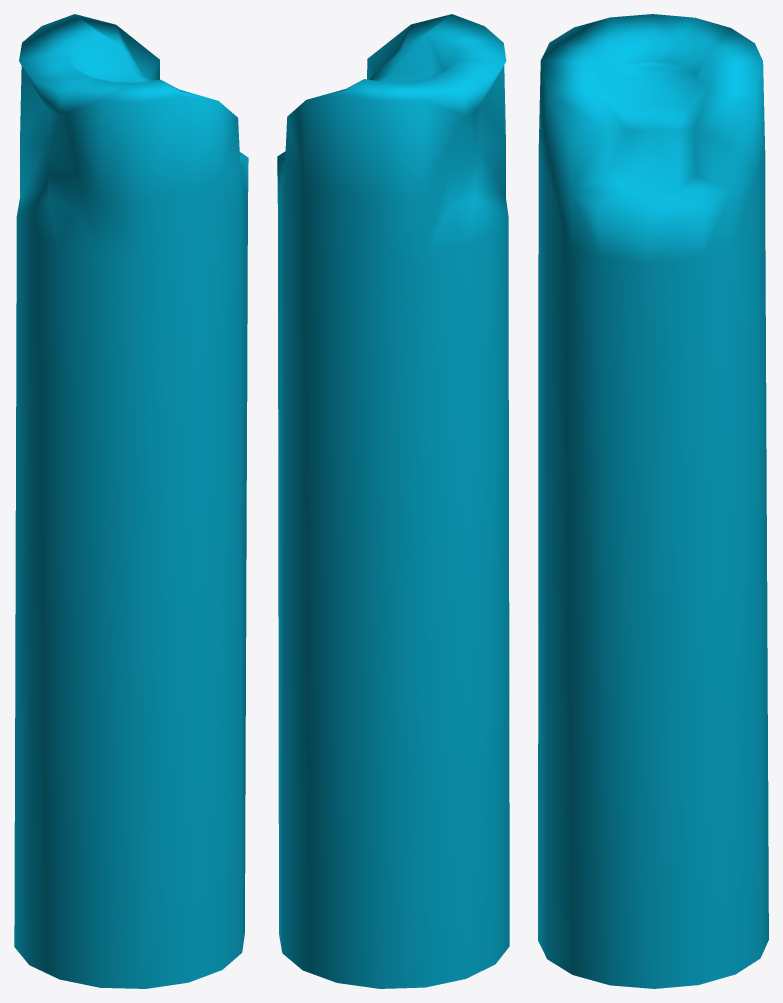
Rendered from Household_03_Lod0.fbx.
The picture shows the model from 3 angles, left to right: view 1: azimuth 30°, elevation 25°; view 2: azimuth 150°, elevation 25°; view 3: azimuth 270°, elevation 25°; orthographic projection.
Parts seen in each view (by area): view 1: Household_03_Lod0; view 2: Household_03_Lod0; view 3: Household_03_Lod0.
Boxes of the visible parts, x1,y1,x2,y2 form: Household_03_Lod0: (14, 14, 248, 988); Household_03_Lod0: (277, 14, 509, 988); Household_03_Lod0: (538, 14, 768, 988).
Bounding box in the file's own units: 7.33 × 30.69 × 7.31.
